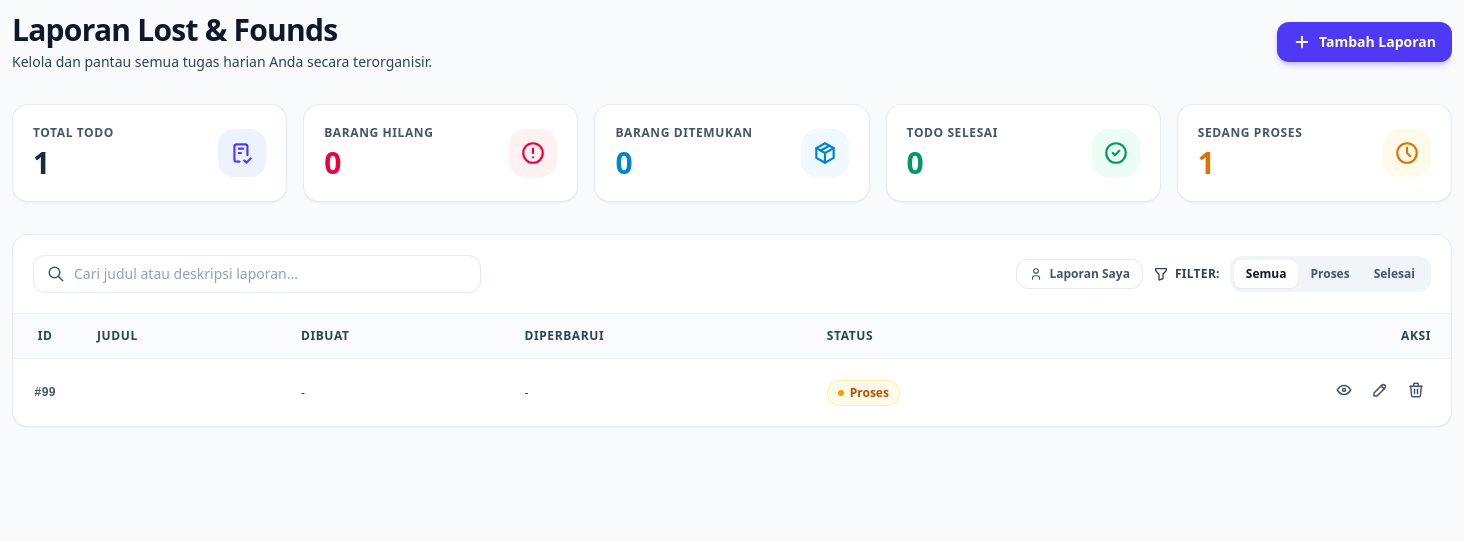
Test: HomePage › should handle search against todos with null title and description
This screenshot has width=1464, height=541.
Type "xyz" into the field with test id "search-todo-input" at (257, 274), box [33, 255, 481, 293]
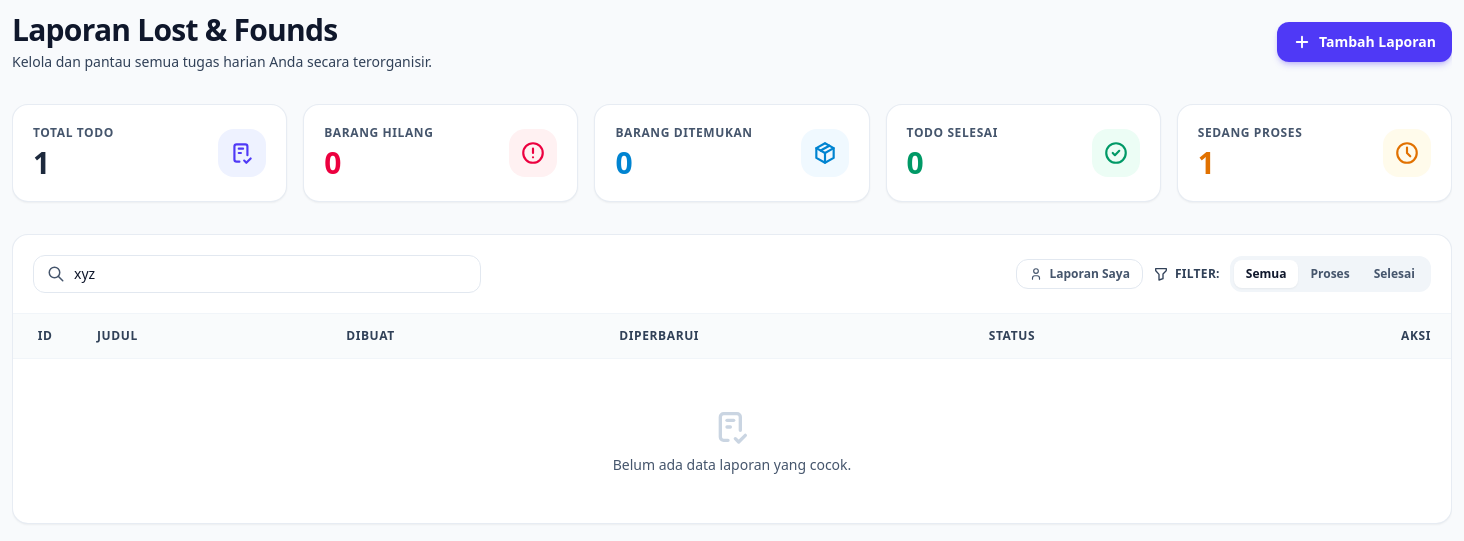
Expected: the text "Belum ada data laporan yang cocok." is shown, [613, 455, 851, 474]
